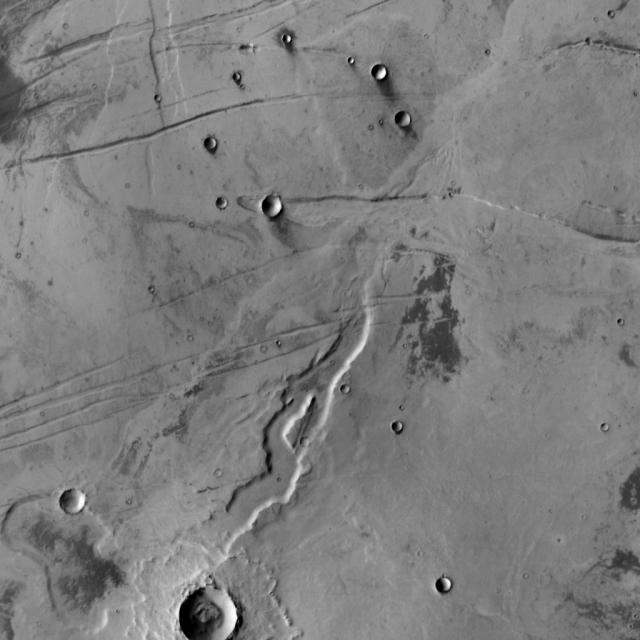crater: (183, 589, 243, 640), (64, 489, 91, 515), (266, 197, 288, 218), (402, 110, 417, 126), (442, 578, 457, 594), (378, 64, 393, 78), (210, 138, 222, 150), (398, 424, 409, 434), (286, 35, 296, 44), (222, 200, 232, 208), (306, 436, 314, 446), (608, 422, 616, 431), (230, 66, 238, 74), (340, 378, 347, 385), (212, 464, 219, 471)
